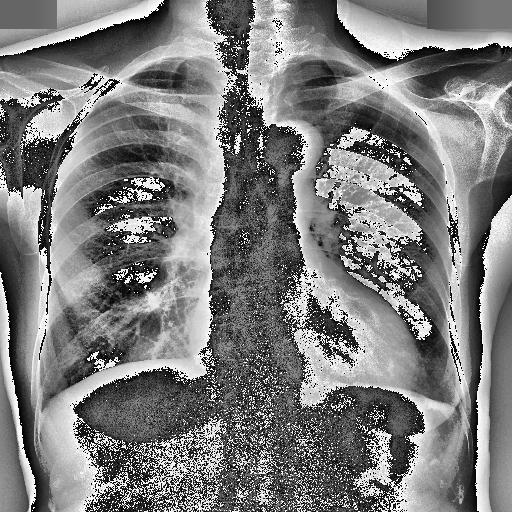0- Aortic enlargement: (262, 120, 326, 191), (262, 118, 326, 180), (269, 117, 325, 170)
3- Cardiomegaly: (186, 308, 418, 390), (187, 309, 420, 389), (185, 318, 422, 372)
